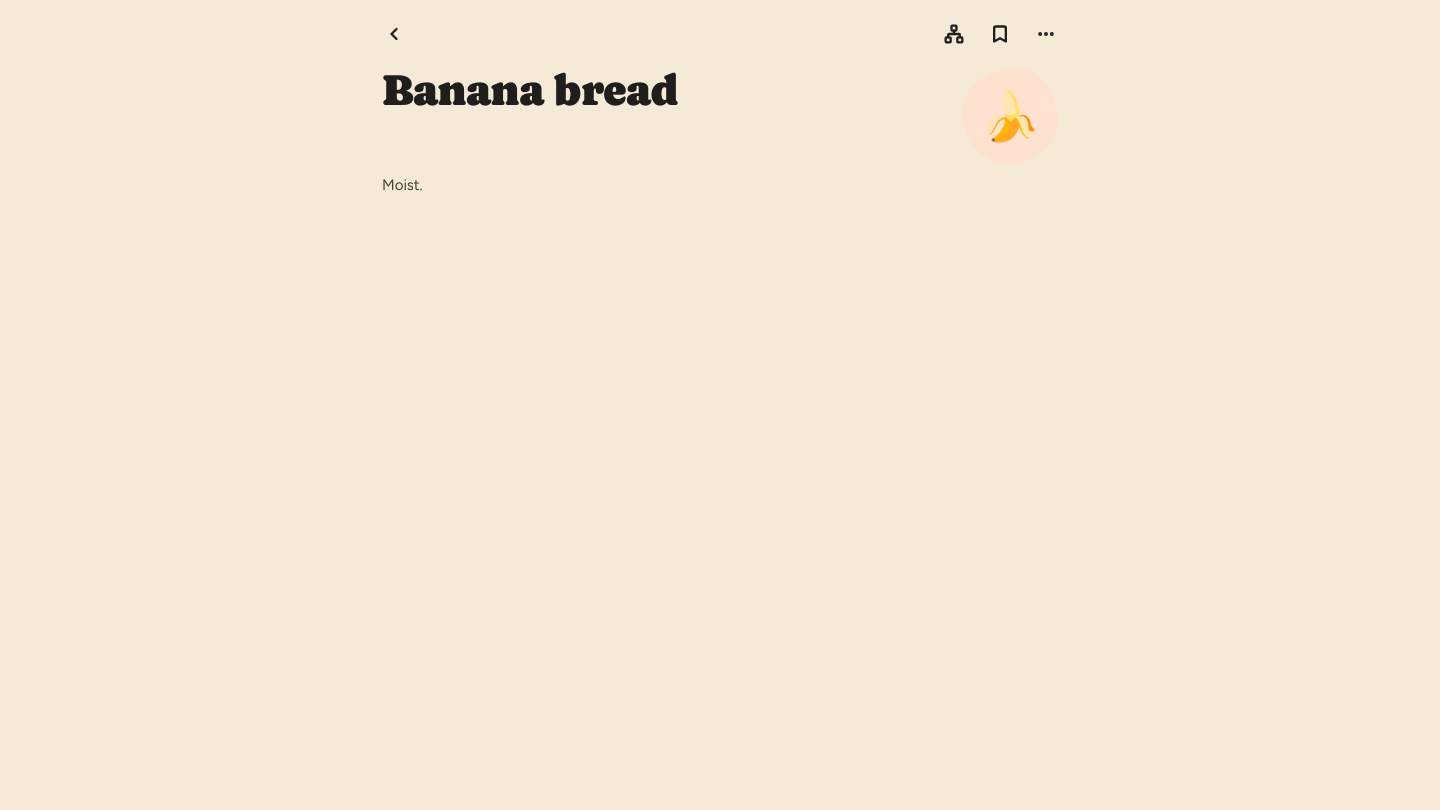
it: RecipeHeader menu sheet › disables Copy share link while sharing
What coordinates should you click on to do the following:
click the button named "More options"
I would click on:
 (1046, 34)
Its box is [1024,12,1068,56].
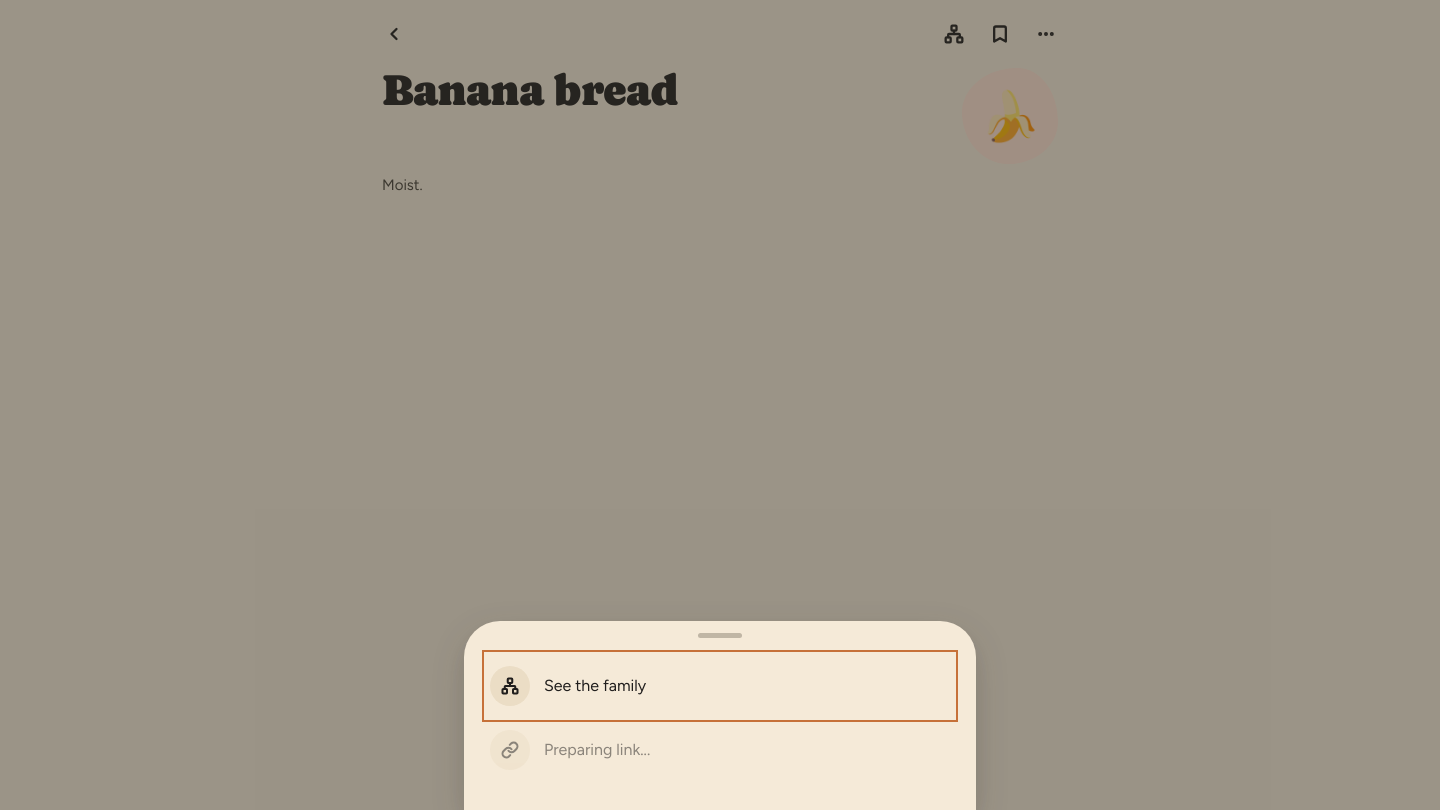
Check: the button "Preparing link..." is disabled, box [486,718,954,782]
